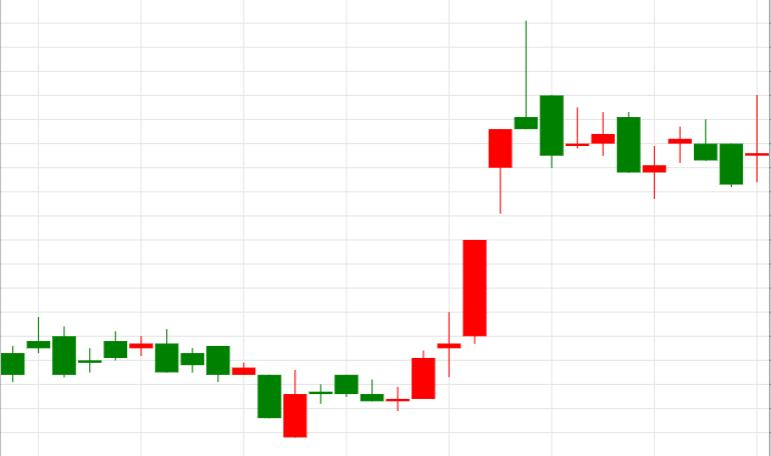hanging_man_fall: (386, 129, 512, 410)
